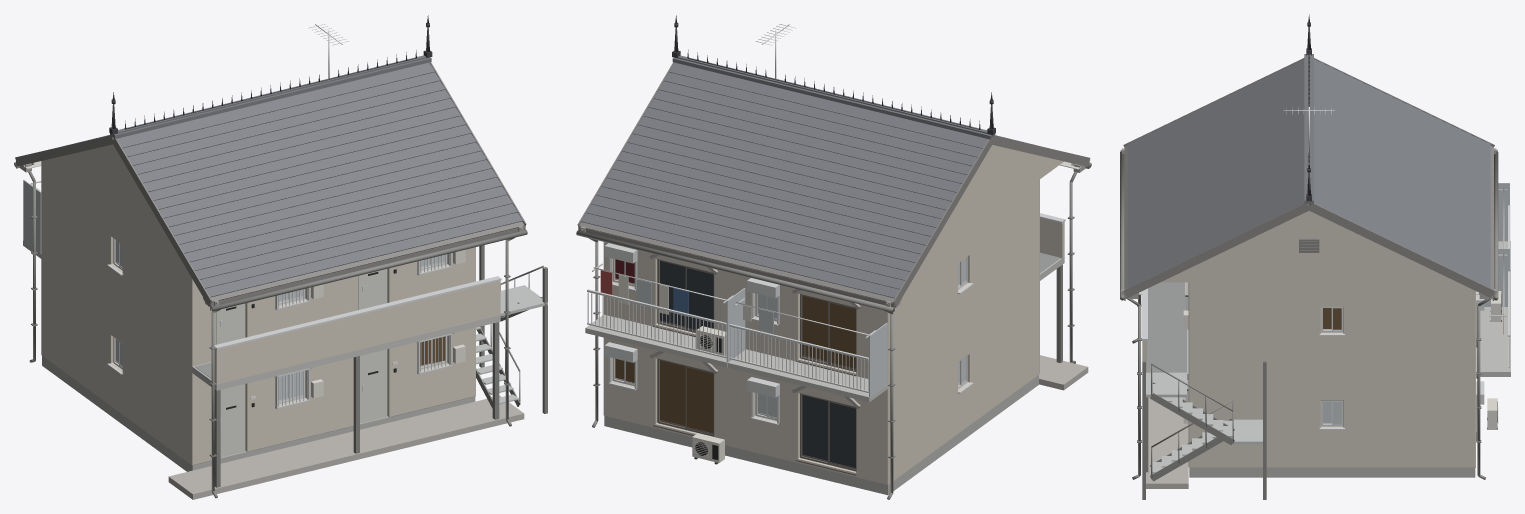
File: blk_outerm1_0_4.glb
3 views of the same model, side by side, from view 1: azimuth 30°, elevation 25°; view 2: azimuth 150°, elevation 25°; view 3: azimuth 270°, elevation 25° (orthographic). The views are drawn at different scales.
Parts seen in each view (by area): view 1: blk_outerm1_0_4; view 2: blk_outerm1_0_4; view 3: blk_outerm1_0_4.
Boxes of the visible parts, left/top/right/bottom form: blk_outerm1_0_4: left=14, top=15, right=547, bottom=499; blk_outerm1_0_4: left=576, top=15, right=1091, bottom=499; blk_outerm1_0_4: left=1120, top=14, right=1510, bottom=499.
Bounding box in the file's own units: 10.53 × 9.89 × 10.55.
